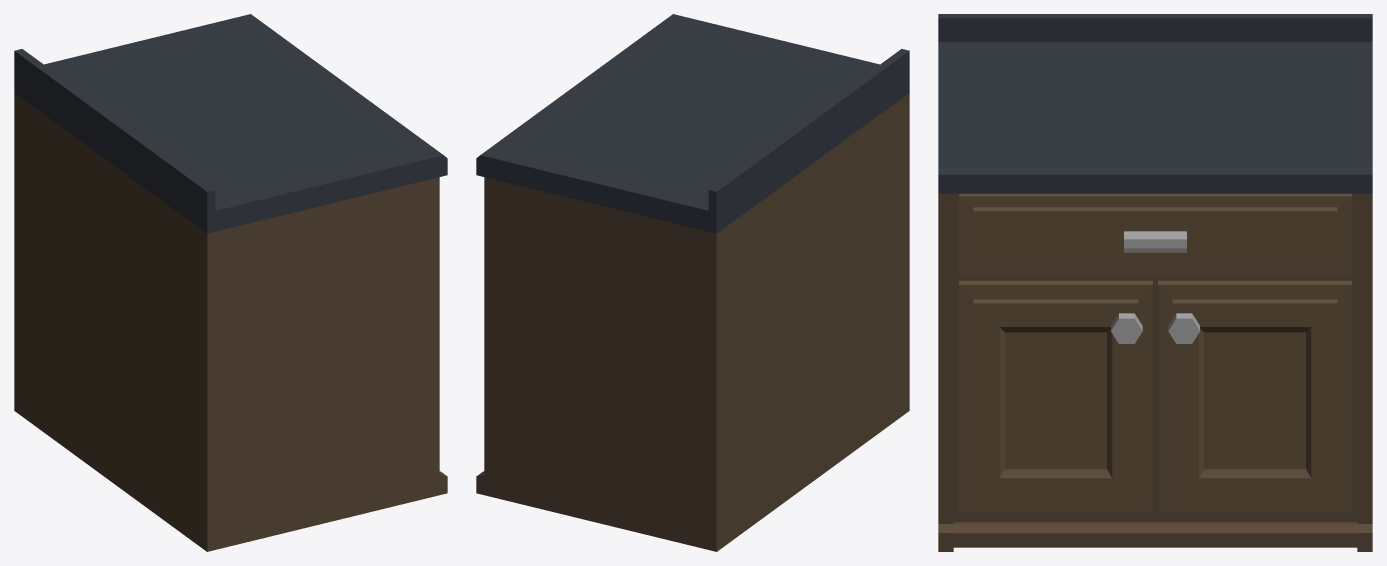
File: SM_kitchenCabinet_03.glb
3 renders of one model, left to right at view 1: azimuth 30°, elevation 25°; view 2: azimuth 150°, elevation 25°; view 3: azimuth 270°, elevation 25°, orthographic. The views are drawn at different scales.
Parts seen in each view (by area): view 1: SM_kitchenCabinet_03; view 2: SM_kitchenCabinet_03; view 3: SM_kitchenCabinet_03.
Part boxes in pixels (x1=…): SM_kitchenCabinet_03: x1=14, y1=14, x2=447, y2=551; SM_kitchenCabinet_03: x1=476, y1=14, x2=909, y2=551; SM_kitchenCabinet_03: x1=938, y1=14, x2=1372, y2=551.
Bounding box in the file's own units: 0.7492 × 1.03 × 1.
1 material, 1 textured.
